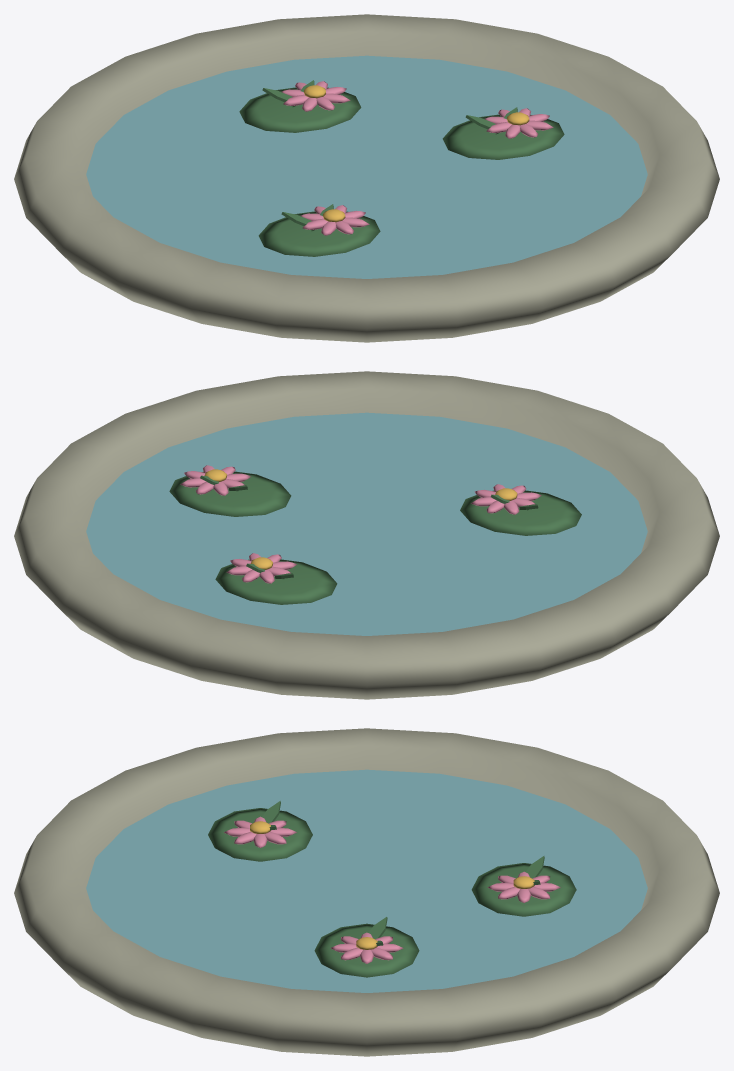
The model's file is almanac-gardens-lily-pond-76c15a43__22051.glb.
3 views of the same model, one above another, from view 1: azimuth 30°, elevation 25°; view 2: azimuth 150°, elevation 25°; view 3: azimuth 270°, elevation 25° (orthographic).
Parts seen in each view (by area): view 1: lily-pond-stone, lily-pond-blue, lily-pond-leaf, lily-pond-pink, lily-pond-gold; view 2: lily-pond-stone, lily-pond-blue, lily-pond-leaf, lily-pond-pink, lily-pond-gold; view 3: lily-pond-blue, lily-pond-stone, lily-pond-leaf, lily-pond-pink, lily-pond-gold.
Part boxes in pixels (bbox=[...]): lily-pond-stone: bbox=[14, 14, 719, 342]; lily-pond-blue: bbox=[86, 55, 647, 278]; lily-pond-leaf: bbox=[239, 80, 564, 256]; lily-pond-pink: bbox=[281, 81, 553, 235]; lily-pond-gold: bbox=[304, 85, 529, 222]; lily-pond-stone: bbox=[14, 371, 719, 699]; lily-pond-blue: bbox=[86, 412, 647, 635]; lily-pond-leaf: bbox=[169, 471, 581, 604]; lily-pond-pink: bbox=[180, 465, 541, 583]; lily-pond-gold: bbox=[204, 469, 517, 569]; lily-pond-blue: bbox=[86, 769, 647, 992]; lily-pond-stone: bbox=[14, 728, 719, 1056]; lily-pond-leaf: bbox=[208, 801, 576, 977]; lily-pond-pink: bbox=[224, 816, 560, 963]; lily-pond-gold: bbox=[250, 821, 534, 949].
Size of the model in its own units: 1.88 by 0.1586 by 1.88.
